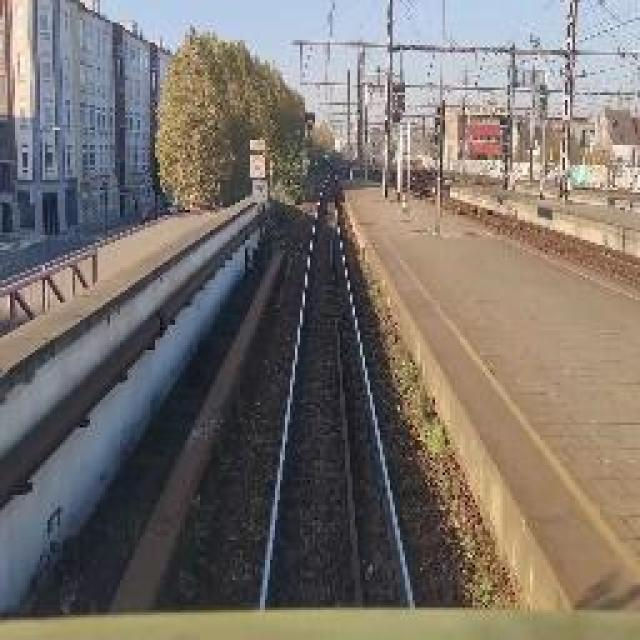rail: (224, 161, 457, 614)
